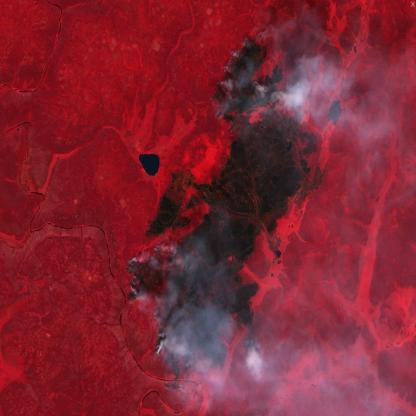fire: (123, 247, 263, 397), (207, 27, 297, 129)
